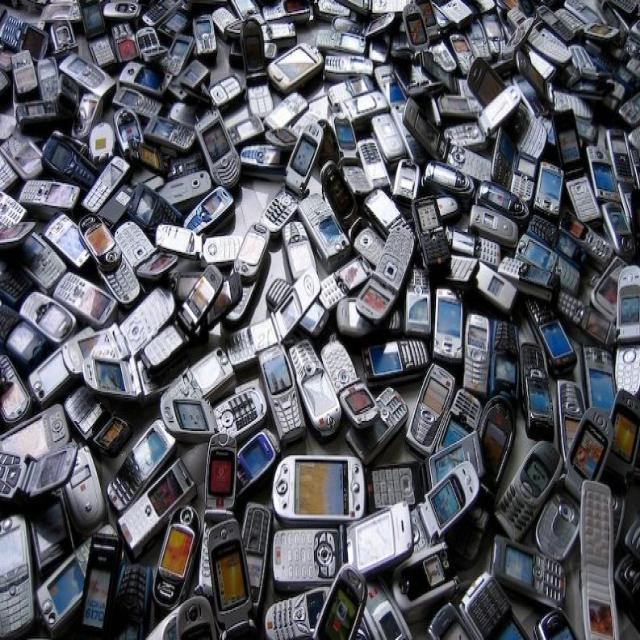Hazard: (0, 22, 638, 638)
